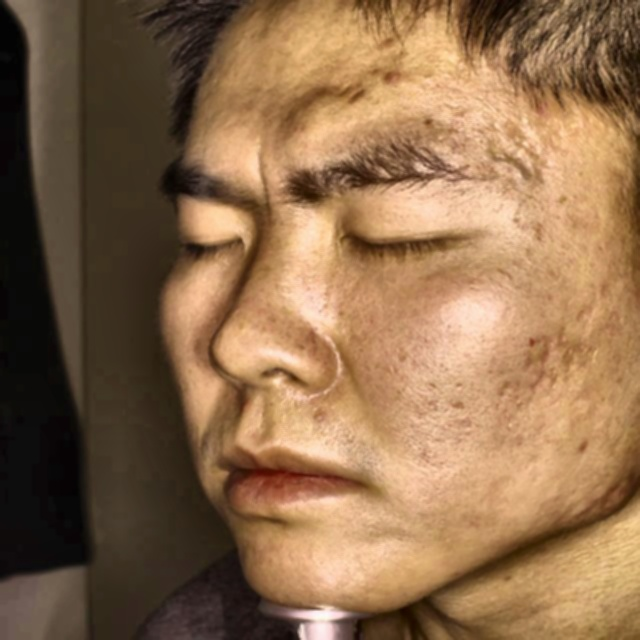comedone: (232, 391, 262, 420), (380, 65, 409, 92), (575, 434, 594, 462), (376, 29, 400, 51)
